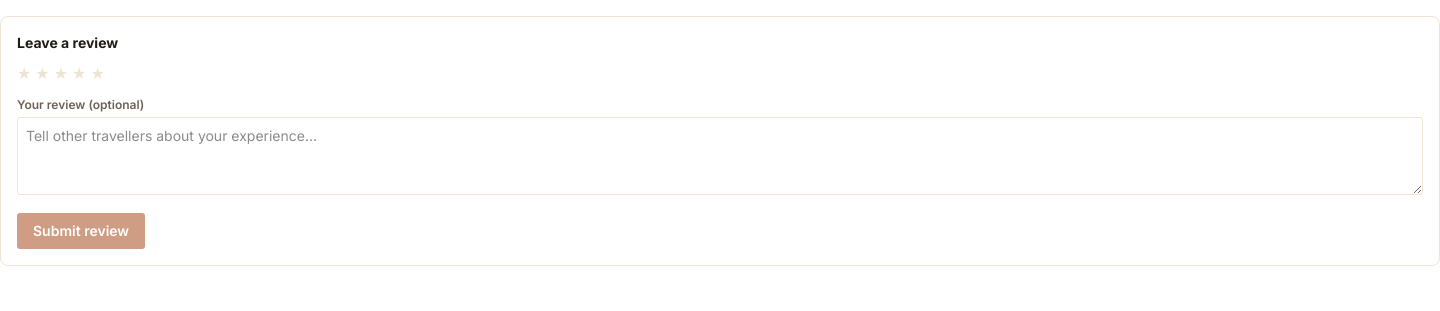
Test: ReviewForm › translates the NOT_ELIGIBLE server error key to t.genericError
Click the radio button named "5": (98, 73) [90,61,105,85]
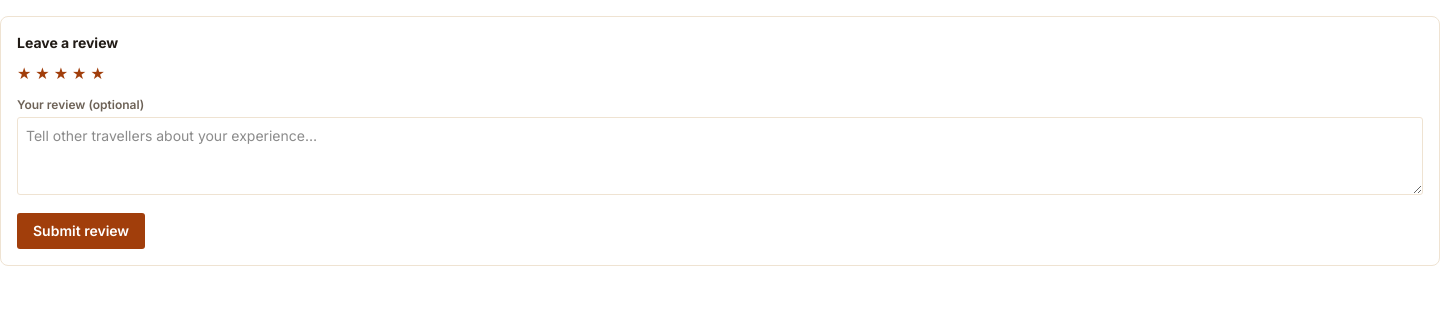
Click the button "Submit review": (81, 231) [17,213,145,249]
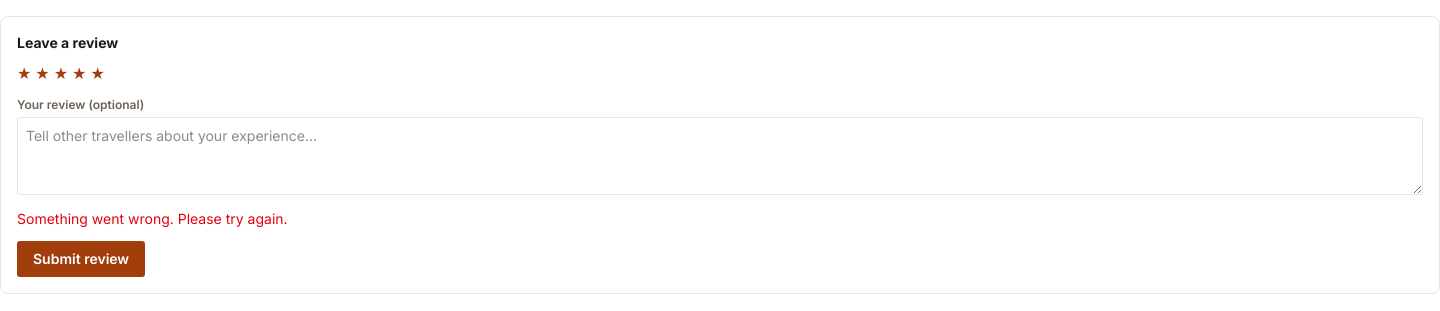
Result: the text "Something went wrong. Please try again." is shown at [17,210,288,227]
